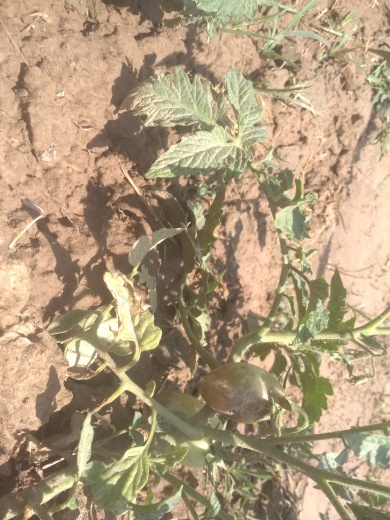tomato diseased leaf: (123, 64, 257, 168), (88, 265, 164, 371), (200, 360, 283, 420), (3, 431, 57, 482)
tomato plant: (74, 56, 343, 504)
